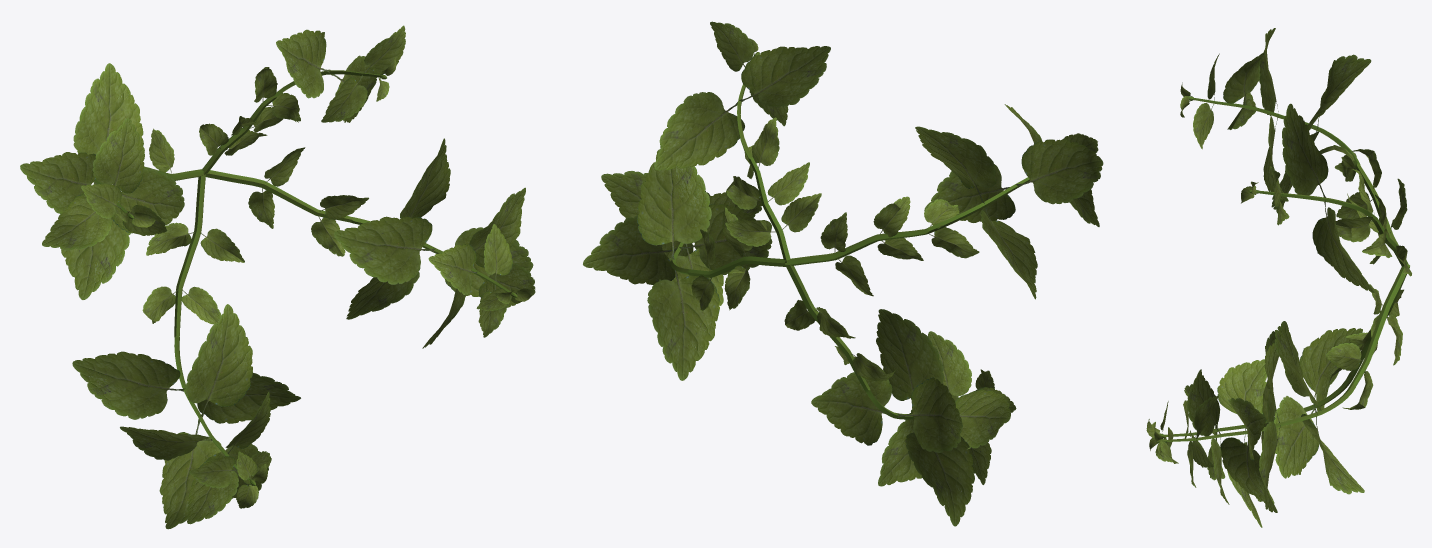
3 views of the same model, side by side, from view 1: azimuth 30°, elevation 25°; view 2: azimuth 150°, elevation 25°; view 3: azimuth 270°, elevation 25° (orthographic).
Parts seen in each view (by area): view 1: GC26_v3; view 2: GC26_v3; view 3: GC26_v3.
Part boxes in pixels (x1,y1,x2,y2): GC26_v3: [20, 25, 535, 529]; GC26_v3: [583, 21, 1103, 526]; GC26_v3: [1146, 28, 1411, 527].
Size of the model in its own units: 2.26 by 1.95 by 1.01.
Materials: 3 (3 with a texture image).
